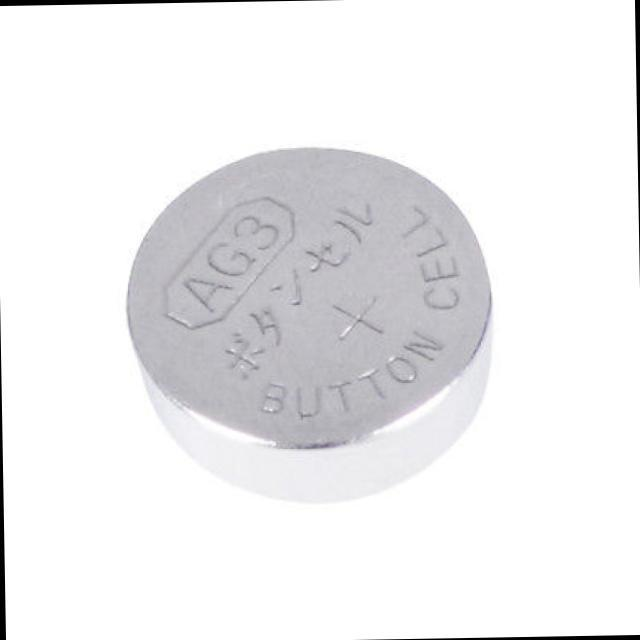COIN: (120, 141, 496, 505)
